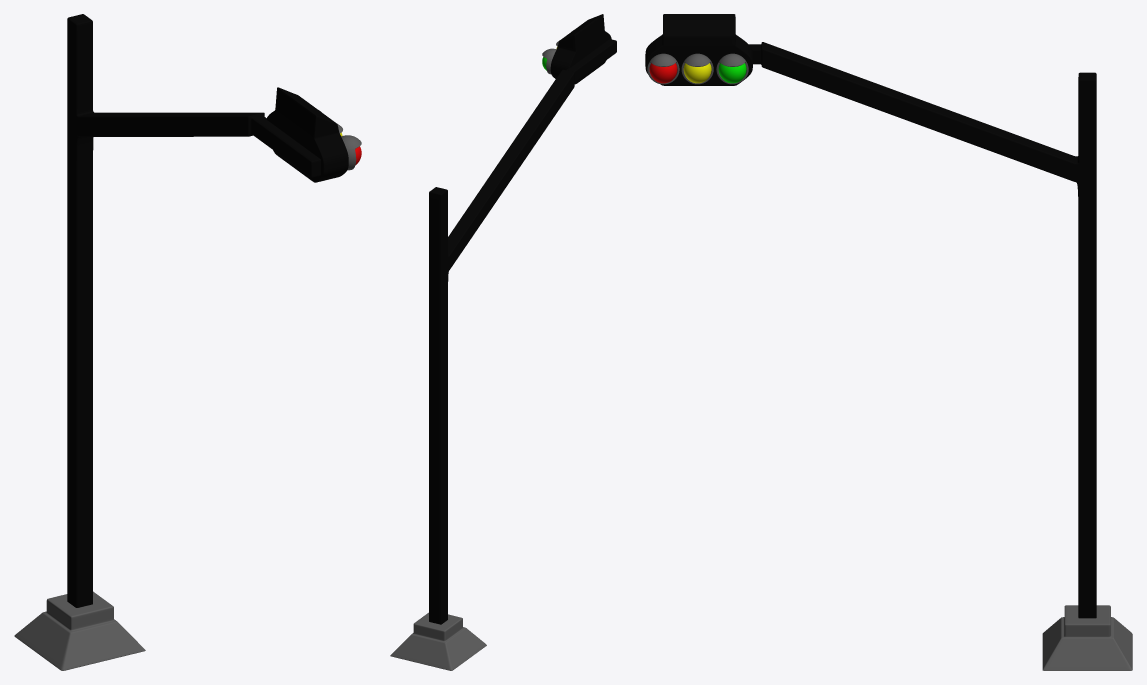
The model's file is TrafficSign_LP_FBX.fbx.
3 views of the same model, side by side, from view 1: azimuth 30°, elevation 25°; view 2: azimuth 150°, elevation 25°; view 3: azimuth 270°, elevation 25° (orthographic). The views are drawn at different scales.
Visible parts, largest first — view 1: pCube33; view 2: pCube33; view 3: pCube33.
Boxes of the visible parts, x1=… form: pCube33: x1=14, y1=14, x2=361, y2=670; pCube33: x1=390, y1=14, x2=616, y2=670; pCube33: x1=645, y1=14, x2=1132, y2=670.
Bounding box in the file's own units: 108 × 779 × 536.
